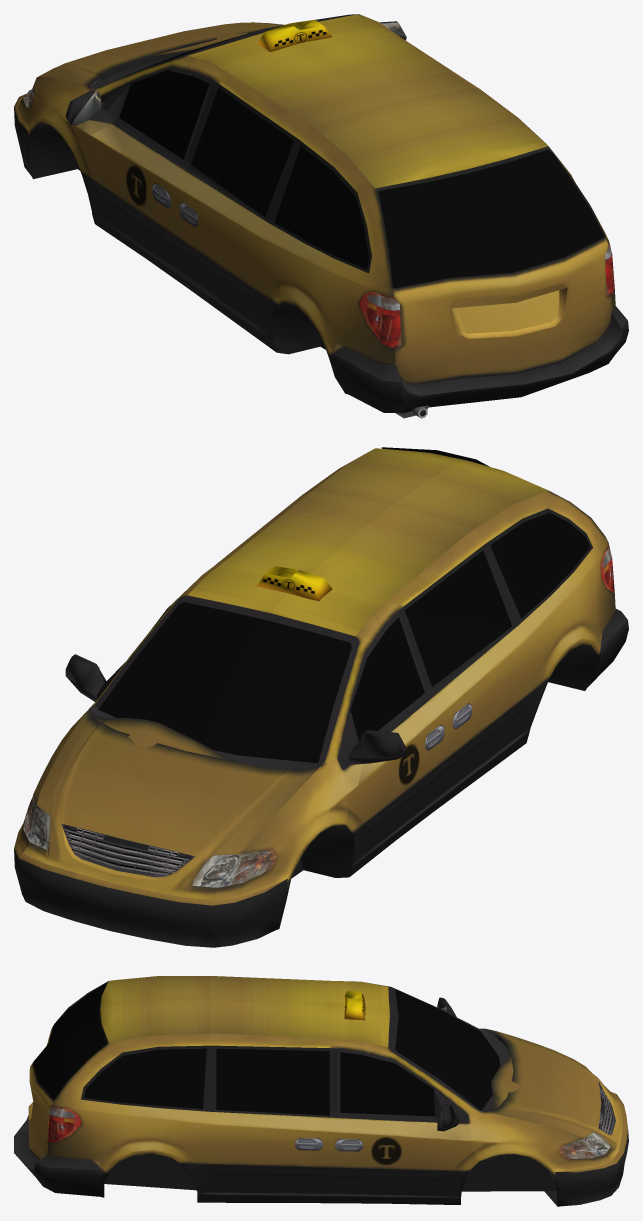
The model's file is car03.obj.
3 renders of one model, top to bottom at view 1: azimuth 30°, elevation 25°; view 2: azimuth 150°, elevation 25°; view 3: azimuth 270°, elevation 25°, orthographic. The views are drawn at different scales.
Parts seen in each view (by area): view 1: car03_car03, rearDamaged_car03.005, rearIntact_car03.004, frontIntact_car03.002, frontDamaged_car03.003; view 2: car03_car03, frontIntact_car03.002, frontDamaged_car03.003, rearIntact_car03.004; view 3: car03_car03, frontIntact_car03.002, rearDamaged_car03.005, rearIntact_car03.004, frontDamaged_car03.003.
Boxes of the visible parts, x1=… form: car03_car03: x1=28, y1=14, x2=615, y2=418; rearDamaged_car03.005: x1=428, y1=152, x2=622, y2=407; rearIntact_car03.004: x1=328, y1=149, x2=628, y2=412; frontIntact_car03.002: x1=14, y1=22, x2=284, y2=178; frontDamaged_car03.003: x1=133, y1=33, x2=247, y2=66; car03_car03: x1=65, y1=448, x2=615, y2=877; frontIntact_car03.002: x1=14, y1=709, x2=348, y2=947; frontDamaged_car03.003: x1=89, y1=709, x2=242, y2=762; rearIntact_car03.004: x1=588, y1=609, x2=628, y2=686; car03_car03: x1=47, y1=976, x2=557, y2=1204; frontIntact_car03.002: x1=469, y1=1029, x2=628, y2=1206; rearDamaged_car03.005: x1=14, y1=999, x2=101, y2=1192; rearIntact_car03.004: x1=26, y1=983, x2=106, y2=1197; frontDamaged_car03.003: x1=486, y1=1051, x2=557, y2=1206.
Bounding box in the file's own units: 2.35 × 1.49 × 5.04.
6 materials, 4 textured.
